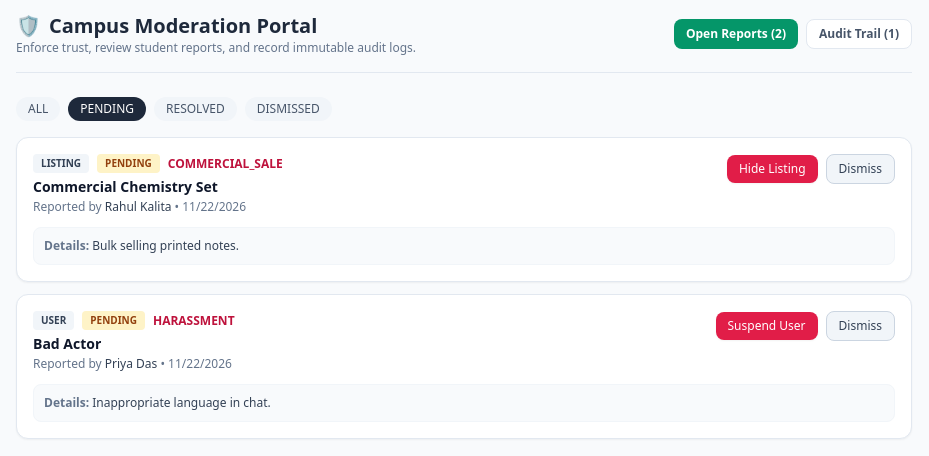
Scenario: ModeratorQueue Component › switches to audit trail view and displays logged audit events
Click the button with test id "tab-audit-logs" at (859, 34), box top-left (806, 19), bottom-right (912, 49)
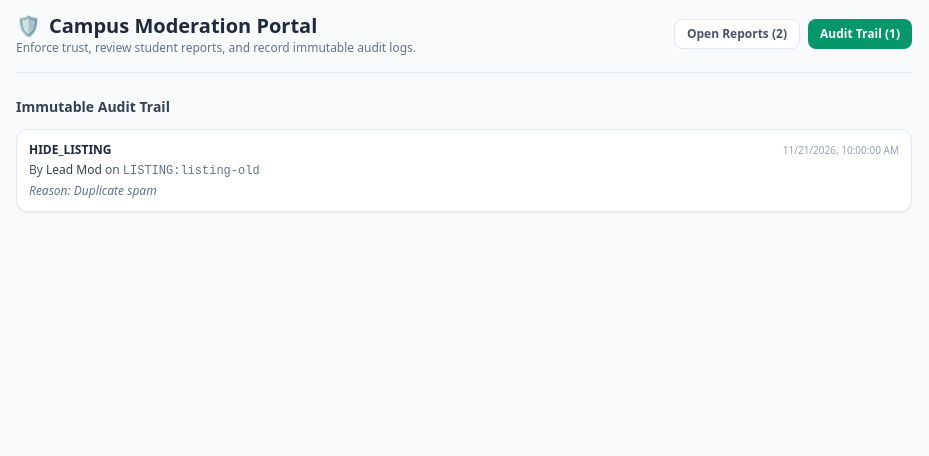
Expected: the element with test id "audit-logs-section" is shown, top-left (16, 97), bottom-right (912, 212)
Expected: the element with test id "audit-log-item" is shown, top-left (17, 130), bottom-right (911, 211)
Expected: the text "Lead Mod" is shown, top-left (46, 161), bottom-right (102, 178)
